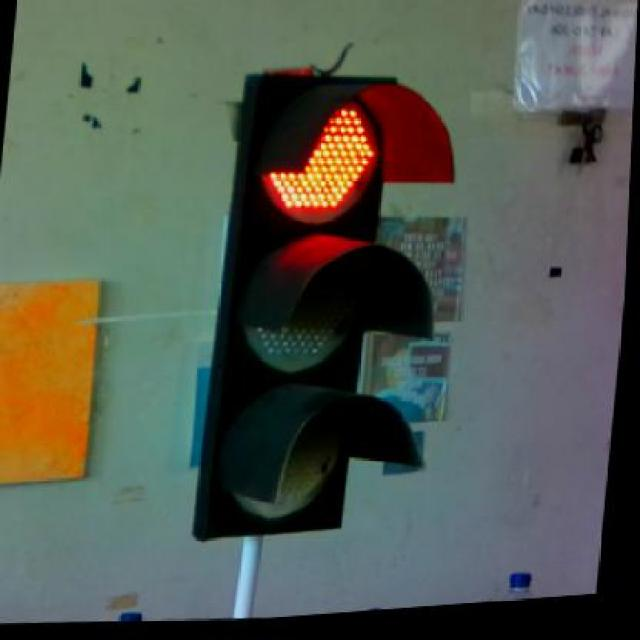red_light: (193, 67, 467, 556)
